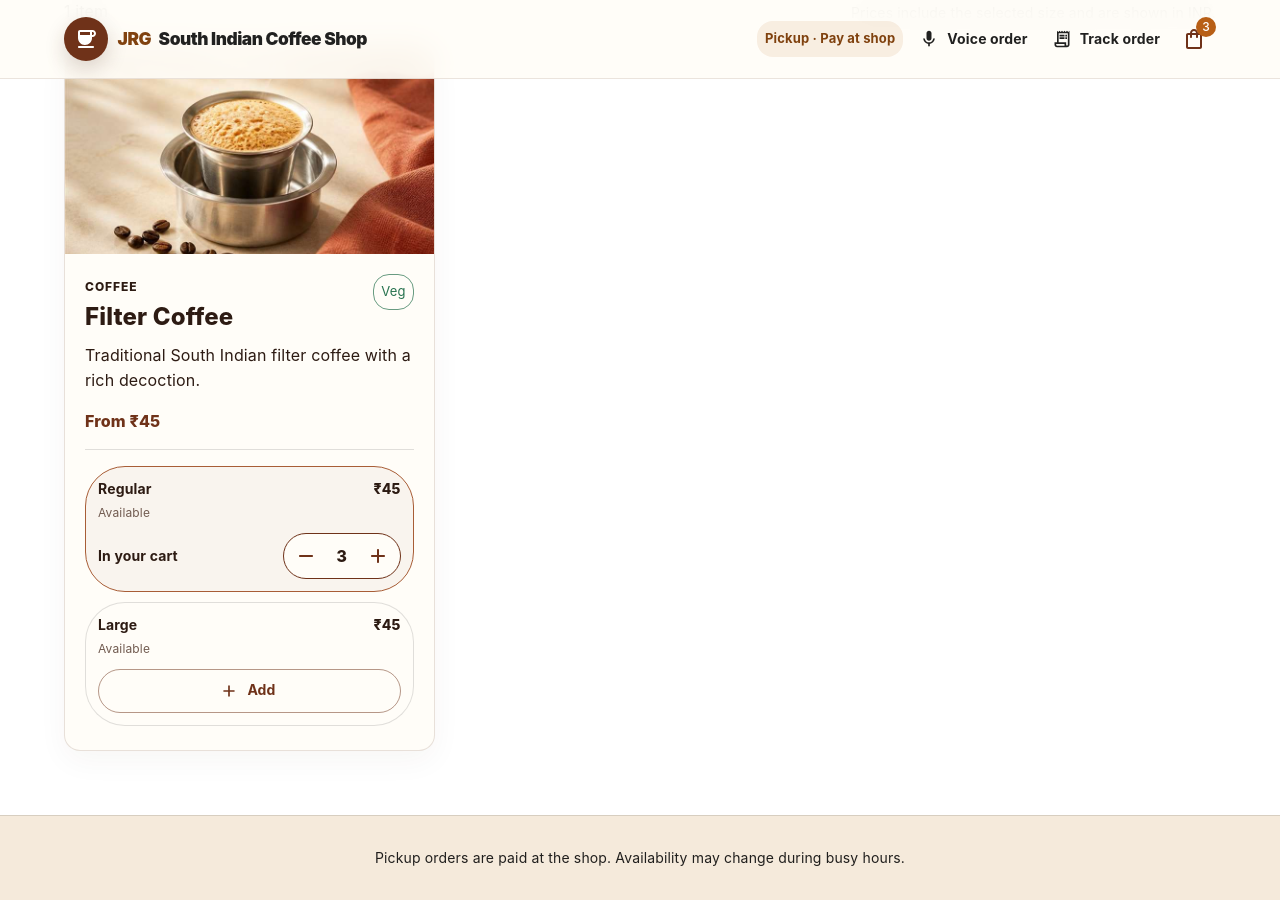
Test: customer menu › shows restored cart quantities independently for each size
(page scrolled)
Expected: the text named "Filter Coffee Regular quantity in cart" reads "3", [336, 546, 347, 566]
Click the button with aria-label "Add Filter Coffee Large to cart": [249, 691] box [98, 669, 401, 713]
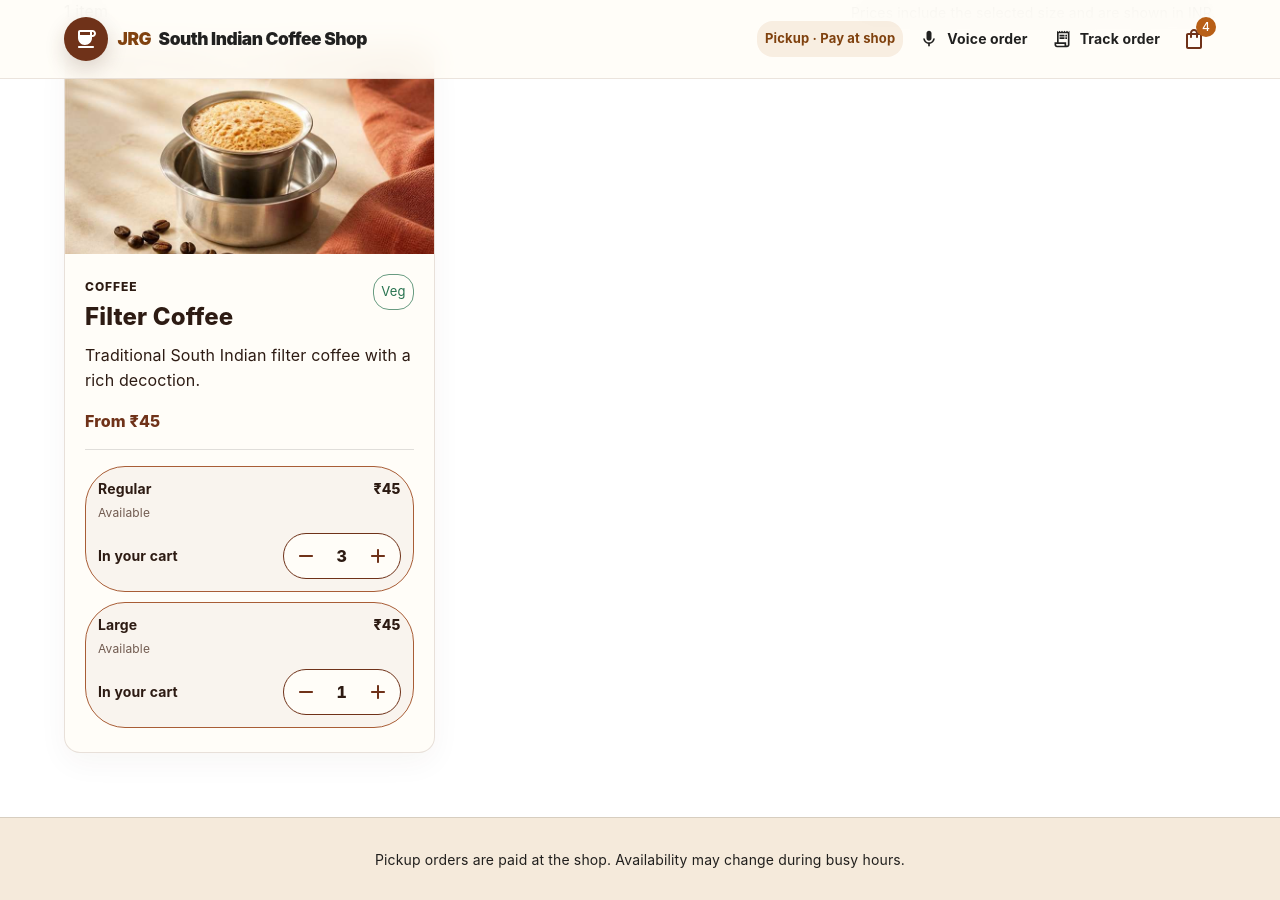
Expected: the text named "Filter Coffee Regular quantity in cart" reads "3", [336, 546, 347, 566]
Now the text named "Filter Coffee Large quantity in cart" reads "1", box [336, 682, 347, 702]
Now the link named "Cart with 4 items" is shown, box [1182, 17, 1216, 51]
